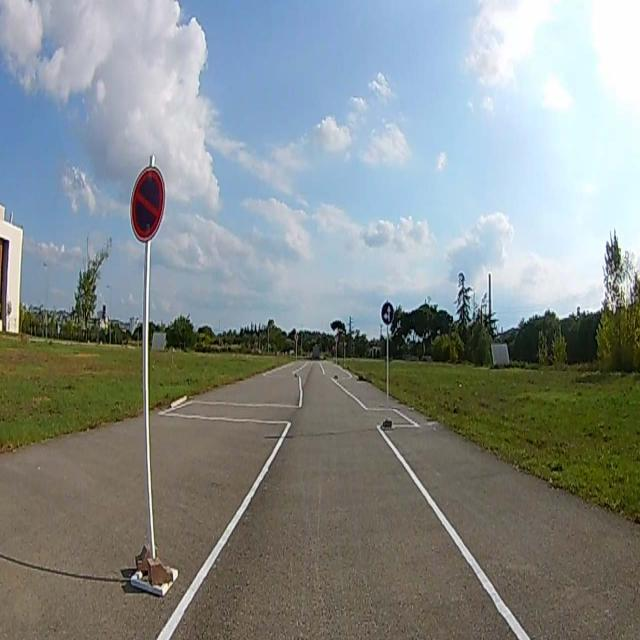ilerisol: (382, 302, 394, 326)
parkyasak: (130, 168, 167, 242)
